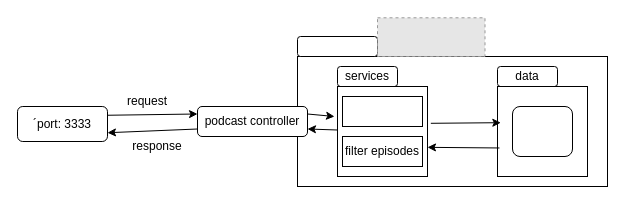
The diagram is 625 pixels wide and 204 high, and some of its shapes have lost their labels. Grey dashed boxes stand in for pictures. The centre of each missing label's shape, as x and y in pixels:
"list episodes" goes at [382,111].
"repositório de episódios" goes at [542,131].
"server" goes at [337,46].
